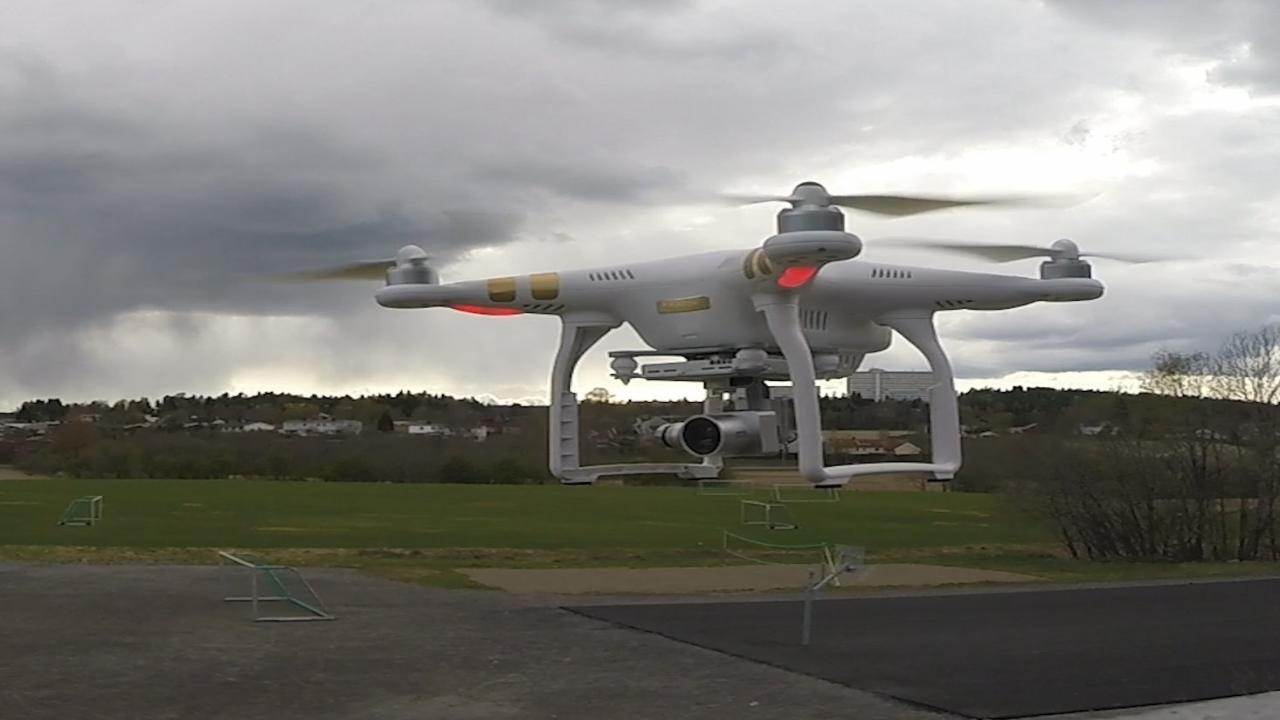Drone: (266, 176, 1213, 503)
